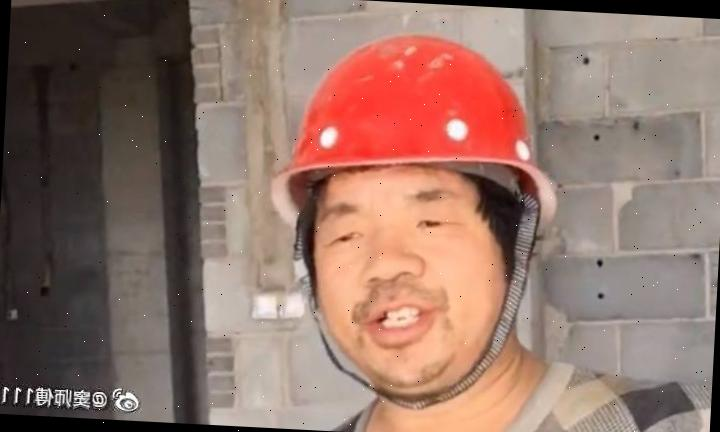helmet: (255, 23, 566, 244)
